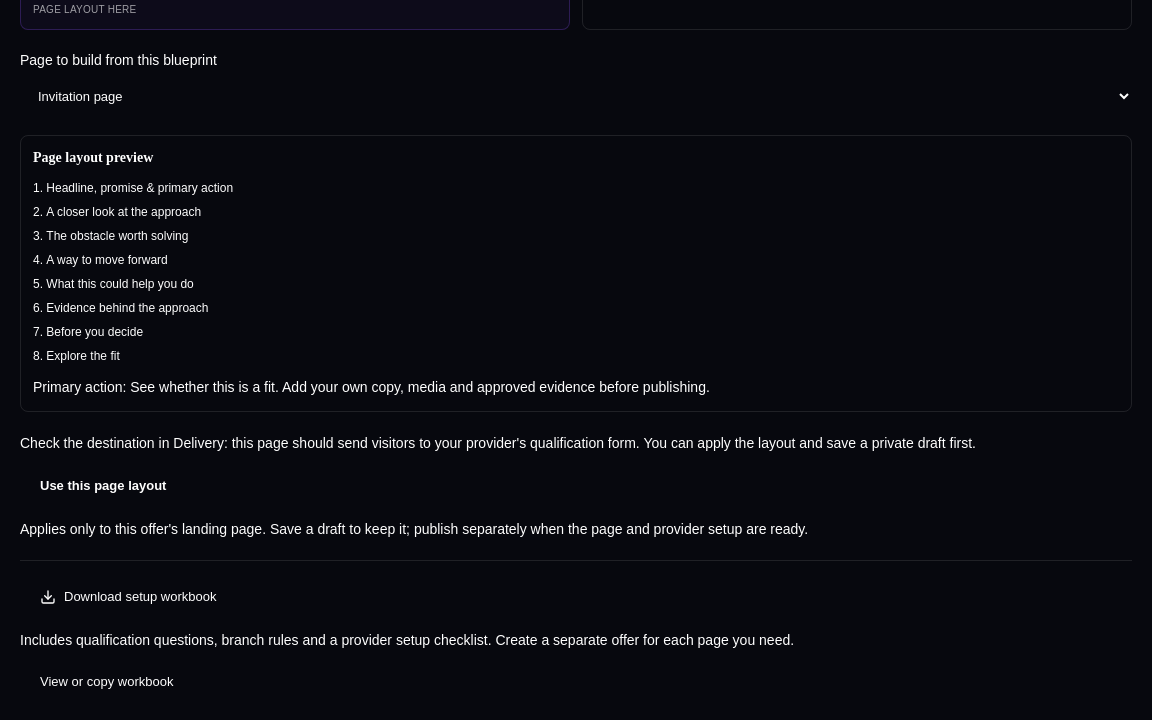
it: qualified call blueprint picker › downloads the full workbook and cleans up its temporary link and object URL
The image size is (1152, 720).
(page scrolled)
Click the button "Download setup workbook" at (140, 597), box top-left (20, 577), bottom-right (1132, 617)
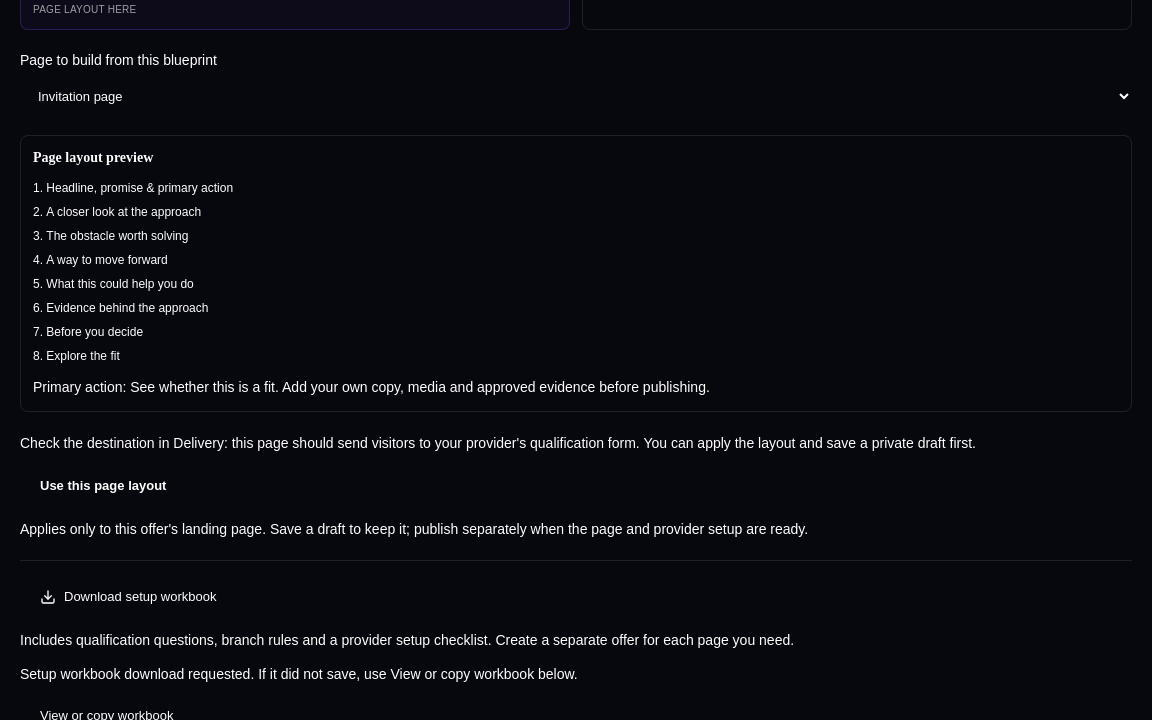
Now the message shows "download requested", box top-left (20, 666), bottom-right (578, 682)
